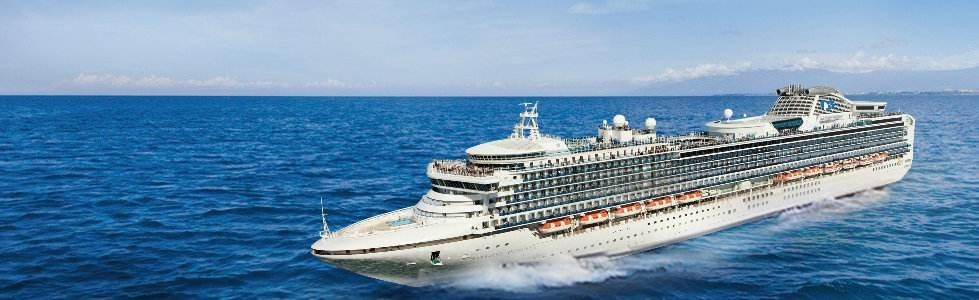youlun: (305, 76, 924, 293)
